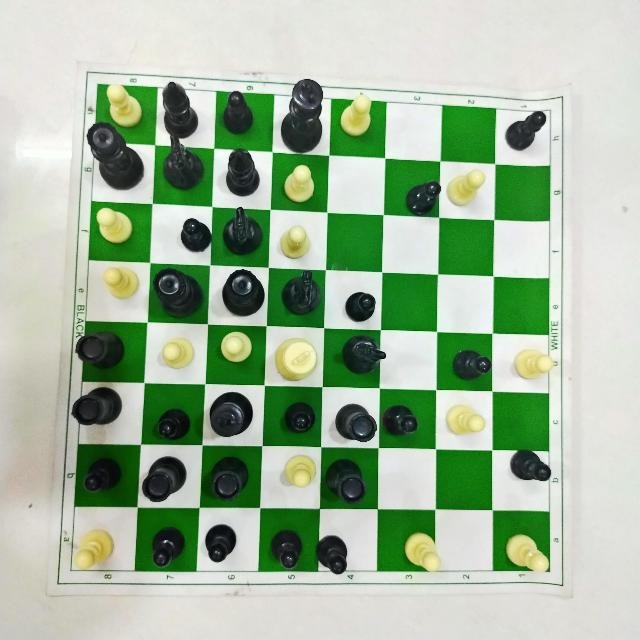black-bishop: (279, 78, 326, 154), (152, 80, 202, 139), (222, 147, 265, 196)
black-king: (206, 389, 254, 439)
black-knight: (155, 137, 210, 195), (222, 207, 266, 258), (282, 269, 324, 319), (341, 334, 387, 376)
black-pawn: (508, 447, 557, 489), (147, 521, 189, 568), (508, 108, 550, 154), (266, 524, 306, 572), (313, 532, 353, 580), (79, 457, 125, 497), (202, 520, 242, 566), (379, 401, 423, 441), (400, 178, 442, 219), (279, 397, 319, 439), (153, 406, 197, 443), (340, 290, 382, 328), (221, 91, 258, 134), (451, 348, 495, 384), (177, 216, 216, 256)
black-queen: (85, 123, 146, 195), (153, 264, 206, 319), (221, 269, 263, 317)
black-rook: (74, 328, 130, 376), (325, 456, 371, 508), (72, 387, 127, 429), (143, 456, 189, 504), (207, 456, 249, 504), (334, 402, 376, 447)
white-pawn: (502, 525, 556, 582), (101, 81, 147, 133), (97, 260, 145, 307), (272, 336, 321, 382), (73, 525, 118, 575), (92, 204, 138, 250), (338, 90, 378, 141), (401, 529, 443, 577), (511, 344, 559, 384), (214, 327, 260, 366), (275, 221, 317, 263), (445, 170, 485, 213), (159, 332, 201, 371), (445, 400, 487, 439), (282, 162, 319, 206), (281, 453, 318, 493)
